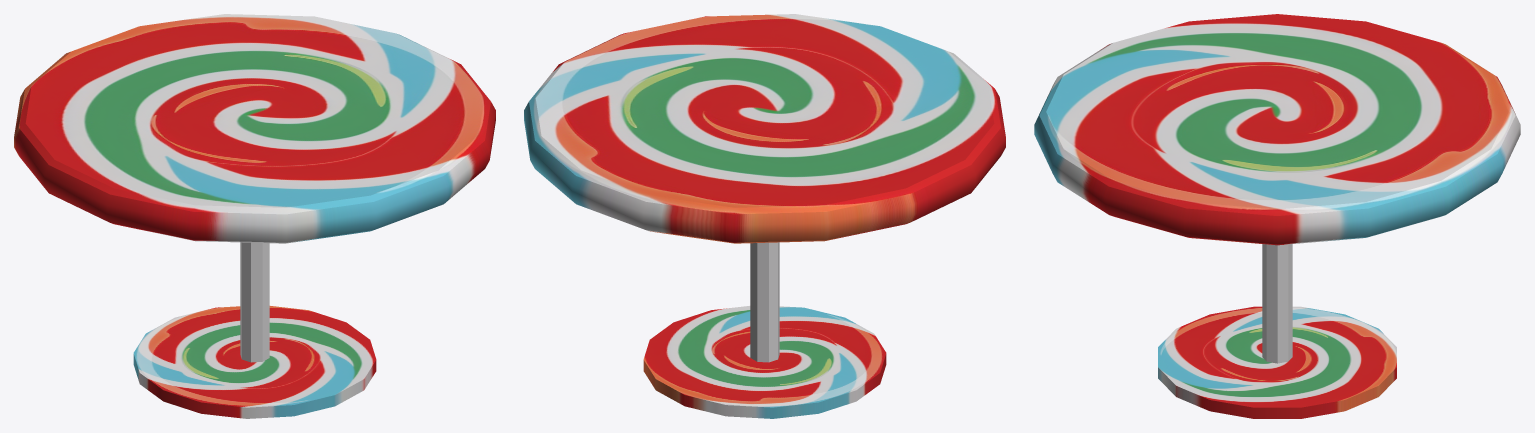
The model's file is lollipop-round-table.glb.
The picture shows the model from 3 angles, left to right: view 1: azimuth 30°, elevation 25°; view 2: azimuth 150°, elevation 25°; view 3: azimuth 270°, elevation 25°; orthographic projection.
Parts seen in each view (by area): view 1: lollipop-round-table; view 2: lollipop-round-table; view 3: lollipop-round-table.
Part boxes in pixels (x1,y1,x2,y2): lollipop-round-table: (14,14,495,418); lollipop-round-table: (524,14,1005,418); lollipop-round-table: (1034,14,1520,418).
Size of what is drawn, in the model's own units: 2.02 by 1.18 by 2.02.
1 material, 1 textured.
